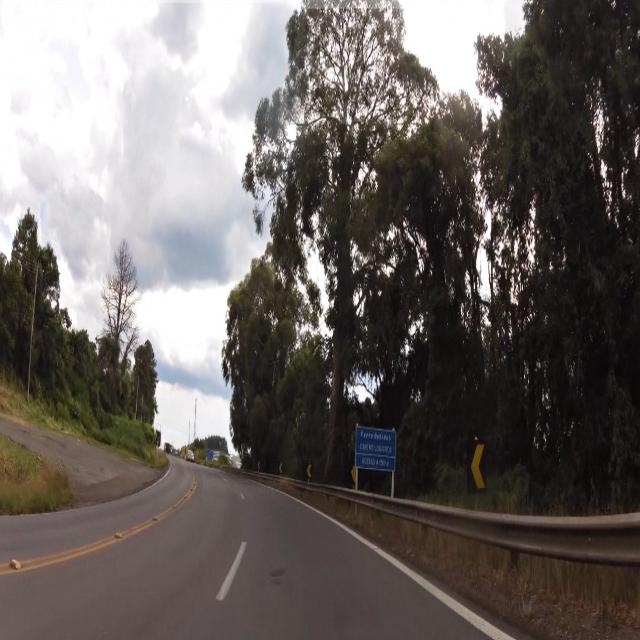Del: (466, 434, 489, 502)
LOC-6: (356, 425, 398, 473)
